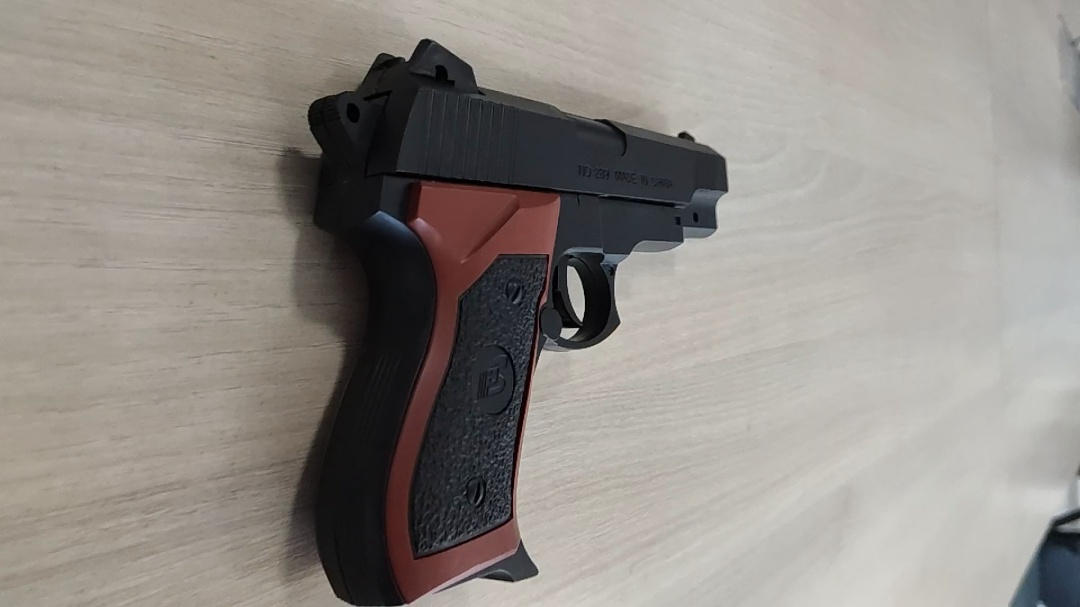gun: (293, 36, 734, 607)
